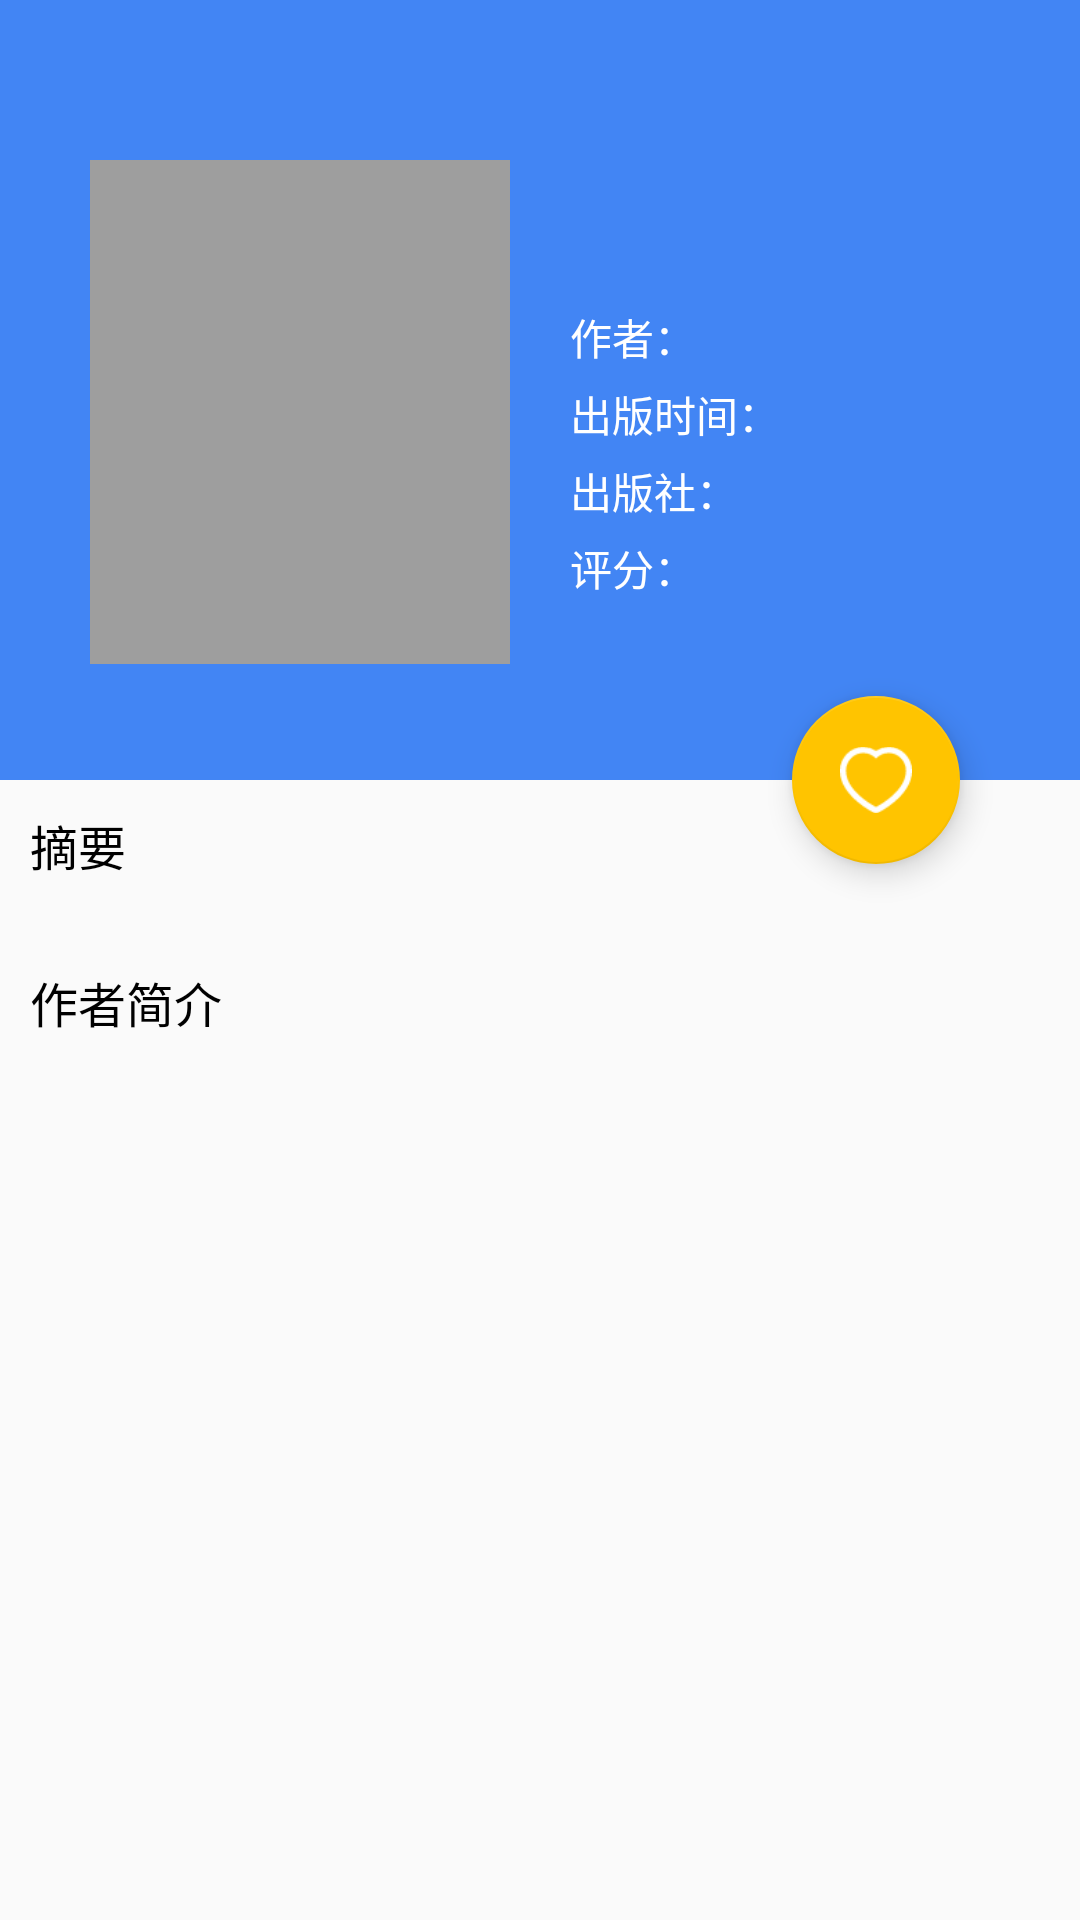

Named icons in this screenshot (1080×1920) and their centers, (x=x, y=y):
heart: (x=876, y=780)
